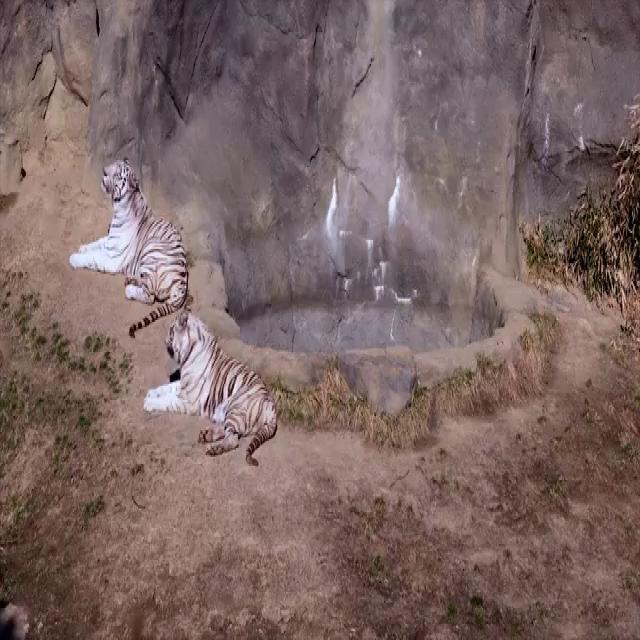tiger: (68, 156, 188, 337), (144, 310, 277, 467)
